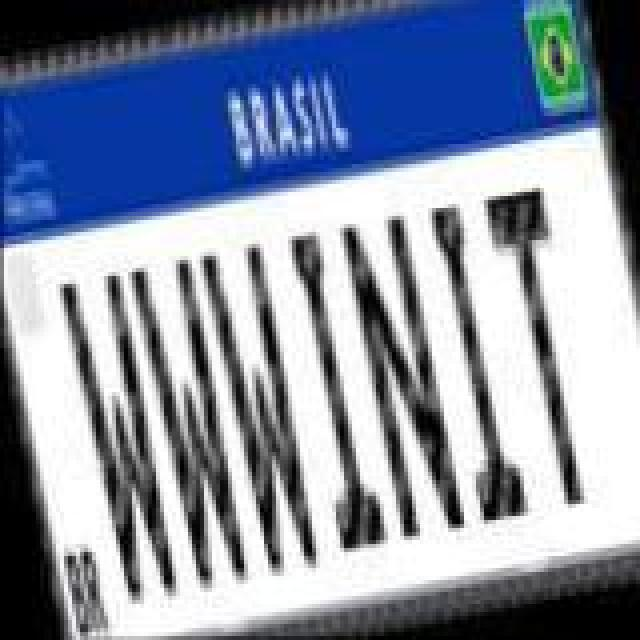I: (278, 224, 390, 556), (418, 200, 530, 532)
N: (336, 210, 468, 546)
T: (480, 182, 604, 514)
W: (56, 268, 188, 612), (124, 250, 256, 594), (192, 238, 324, 582)
